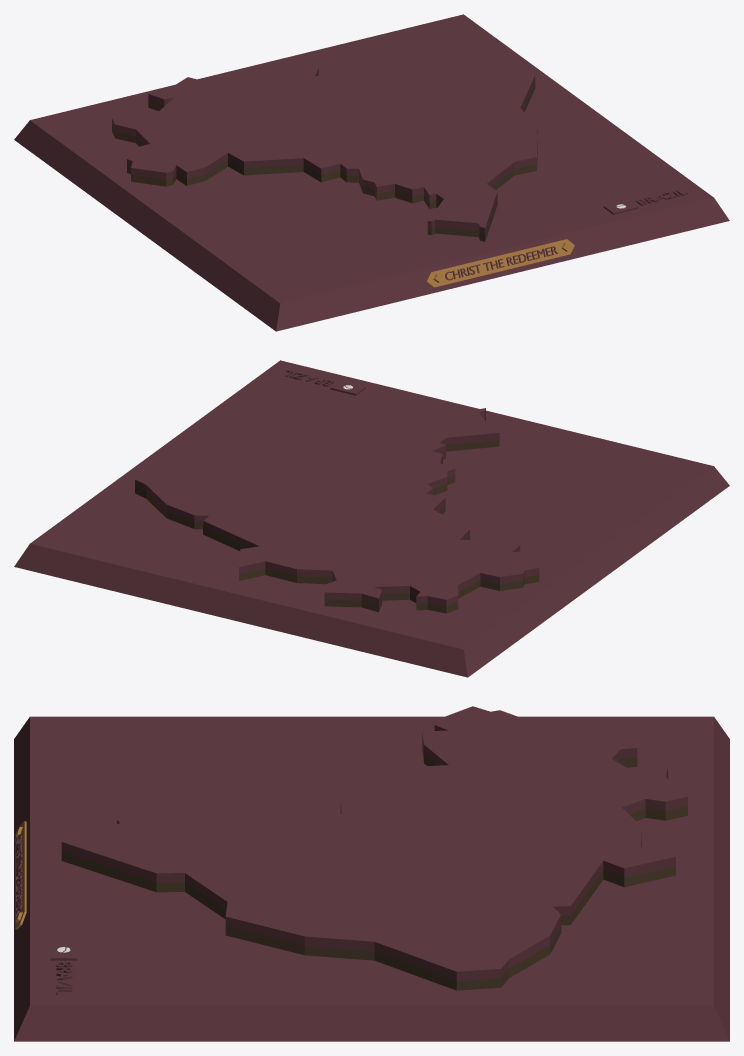
Rendered from SM_Island_JesusStatue_Landmark.fbx.
The picture shows the model from 3 angles, top to bottom: view 1: azimuth 30°, elevation 25°; view 2: azimuth 150°, elevation 25°; view 3: azimuth 270°, elevation 25°; orthographic projection. The views are drawn at different scales.
Visible parts, largest first — view 1: Island_JesusStatue_Landmark; view 2: Island_JesusStatue_Landmark; view 3: Island_JesusStatue_Landmark.
Part boxes in pixels (<box>): Island_JesusStatue_Landmark: <box>14,14,729,331</box>; Island_JesusStatue_Landmark: <box>14,360,729,677</box>; Island_JesusStatue_Landmark: <box>14,706,729,1041</box>.
Size of the model in its own units: 68.5 by 5.09 by 68.5.
